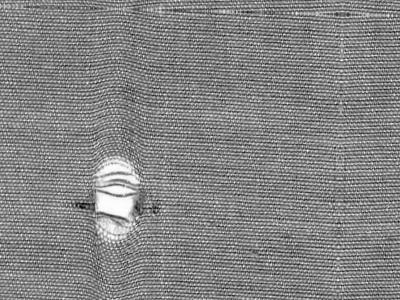hole: (84, 153, 147, 245)
